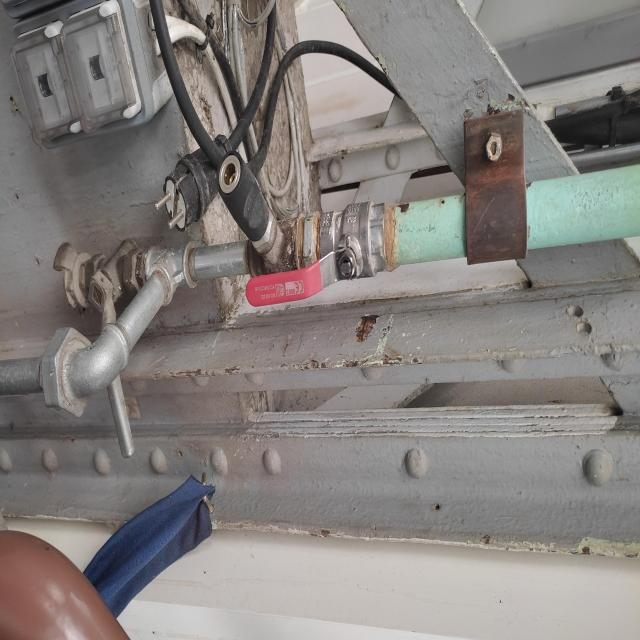opened_valve: (244, 194, 392, 310)
